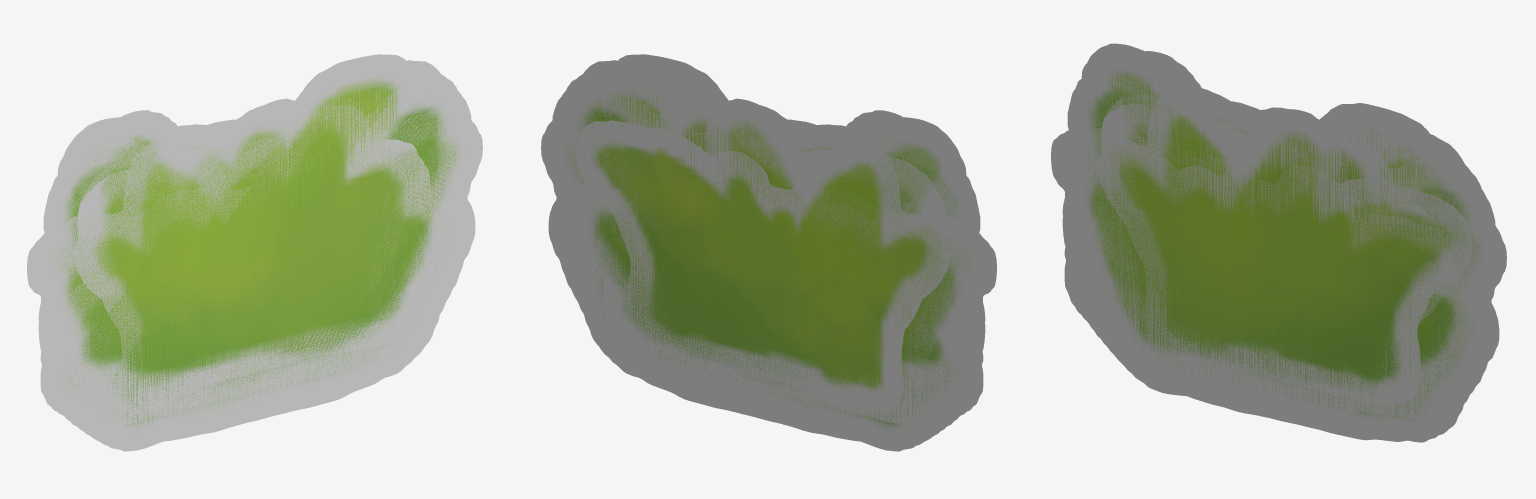
File: Grass.fbx
The picture shows the model from 3 angles, left to right: view 1: azimuth 30°, elevation 25°; view 2: azimuth 150°, elevation 25°; view 3: azimuth 330°, elevation 25°; orthographic projection.
Visible parts, largest first — view 1: Grass_10, Grass_16, Grass_15, Grass_1, Grass_17, Grass_13, Grass_11, Grass_14, Grass_12, Grass_3, Grass_9, Grass_2; view 2: Grass_1, Grass_17, Grass_10, Grass_2, Grass_13, Grass_11, Grass_14, Grass_16, Grass_12, Grass_15, Grass_9, Grass_3; view 3: Grass_1, Grass_2, Grass_13, Grass_17, Grass_10, Grass_15, Grass_11, Grass_16, Grass_14, Grass_12, Grass_3, Grass_9 (+2 smaller).
Part boxes in pixels (x1=…): Grass_10: x1=41, y1=93, x2=455, y2=403; Grass_16: x1=54, y1=54, x2=442, y2=435; Grass_15: x1=27, y1=105, x2=482, y2=413; Grass_1: x1=73, y1=123, x2=447, y2=406; Grass_17: x1=40, y1=65, x2=475, y2=451; Grass_13: x1=41, y1=60, x2=452, y2=436; Grass_11: x1=38, y1=79, x2=471, y2=416; Grass_14: x1=38, y1=60, x2=470, y2=376; Grass_12: x1=45, y1=111, x2=470, y2=425; Grass_3: x1=57, y1=102, x2=436, y2=412; Grass_9: x1=40, y1=84, x2=467, y2=416; Grass_2: x1=134, y1=98, x2=404, y2=413; Grass_1: x1=575, y1=120, x2=950, y2=411; Grass_17: x1=548, y1=64, x2=983, y2=451; Grass_10: x1=568, y1=93, x2=982, y2=403; Grass_2: x1=588, y1=98, x2=962, y2=423; Grass_13: x1=570, y1=60, x2=982, y2=435; Grass_11: x1=552, y1=79, x2=985, y2=416; Grass_14: x1=553, y1=60, x2=985, y2=376; Grass_16: x1=577, y1=54, x2=943, y2=433; Grass_12: x1=553, y1=111, x2=978, y2=426; Grass_15: x1=541, y1=105, x2=996, y2=367; Grass_9: x1=556, y1=83, x2=983, y2=416; Grass_3: x1=580, y1=105, x2=965, y2=412; Grass_1: x1=1097, y1=91, x2=1472, y2=406; Grass_2: x1=1085, y1=109, x2=1460, y2=413; Grass_13: x1=1065, y1=103, x2=1469, y2=424; Grass_17: x1=1064, y1=43, x2=1499, y2=442; Grass_10: x1=1065, y1=121, x2=1479, y2=412; Grass_15: x1=1051, y1=112, x2=1506, y2=398; Grass_11: x1=1062, y1=94, x2=1495, y2=399; Grass_16: x1=1078, y1=51, x2=1442, y2=438; Grass_14: x1=1062, y1=62, x2=1494, y2=434; Grass_12: x1=1069, y1=88, x2=1494, y2=421; Grass_3: x1=1089, y1=107, x2=1468, y2=415; Grass_9: x1=1064, y1=95, x2=1491, y2=416.
Bounding box in the file's own units: 1.78 × 1.55e-07 × 1.26.
Materials: 1 (1 with a texture image).
